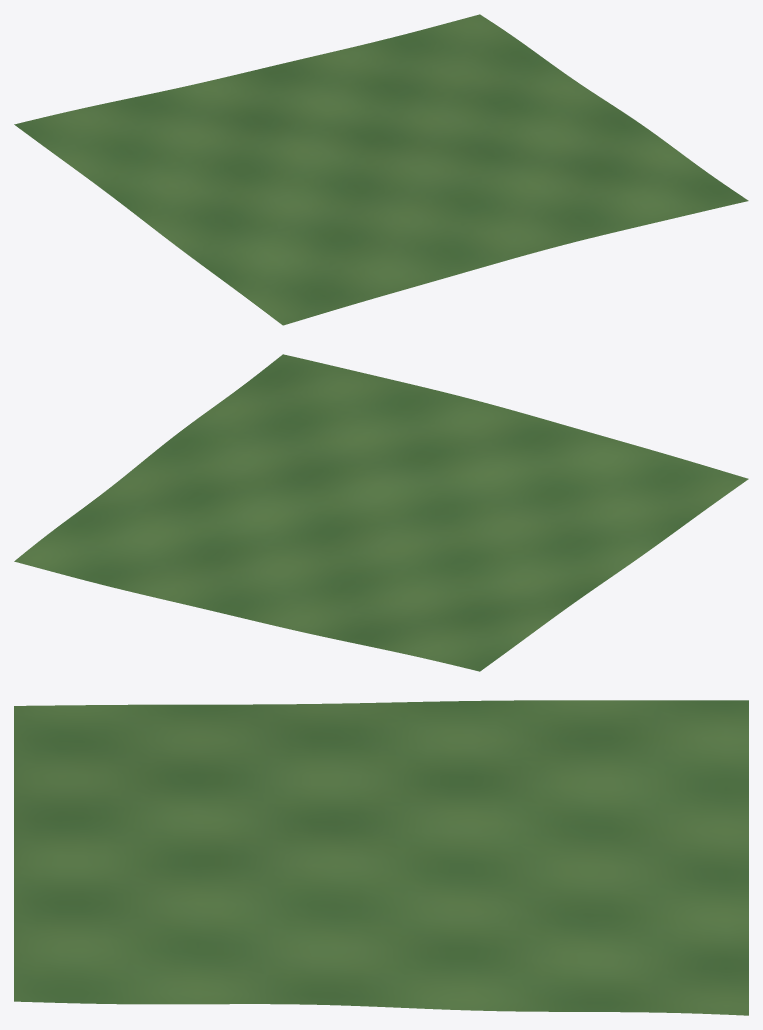
The model's file is chunk_6_6.glb.
The picture shows the model from 3 angles, top to bottom: view 1: azimuth 30°, elevation 25°; view 2: azimuth 150°, elevation 25°; view 3: azimuth 270°, elevation 25°; orthographic projection. The views are drawn at different scales.
Size of the model in its own units: 512 by 15.16 by 512.
